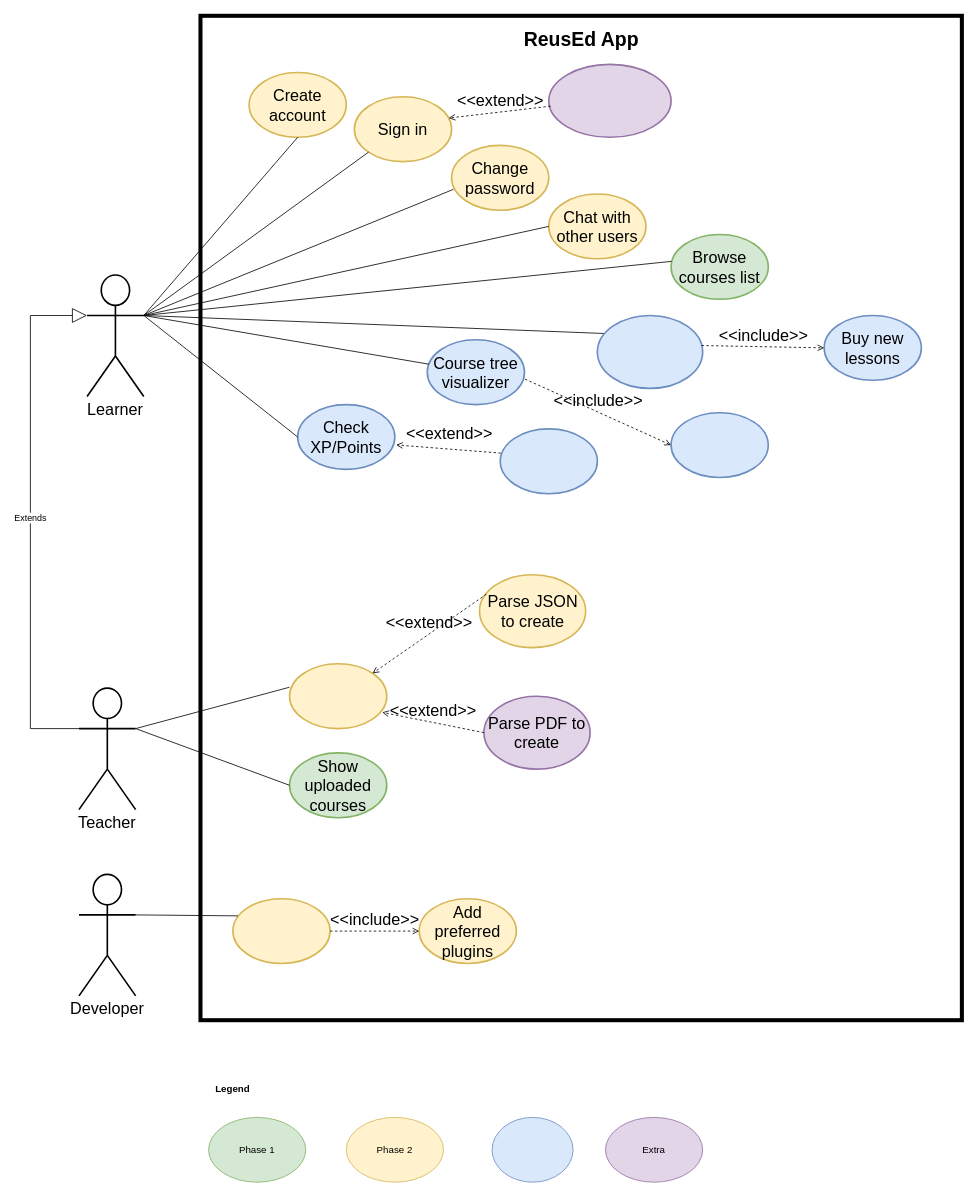
The diagram is 978 pixels wide and 1196 high, and some of its shapes have lost their labels. Each missing label, with the centre of its shape:
"Authentication using Moodle" belongs at pixel 609 100.
"Check progress" belongs at pixel 719 444.
"Create courses" belongs at pixel 337 696.
"Create customized app" belongs at pixel 281 930.
"Leaderboard" belongs at pixel 548 461.
"Phase 3" belongs at pixel 532 1149.
"Spend points in the shop" belongs at pixel 649 351.
